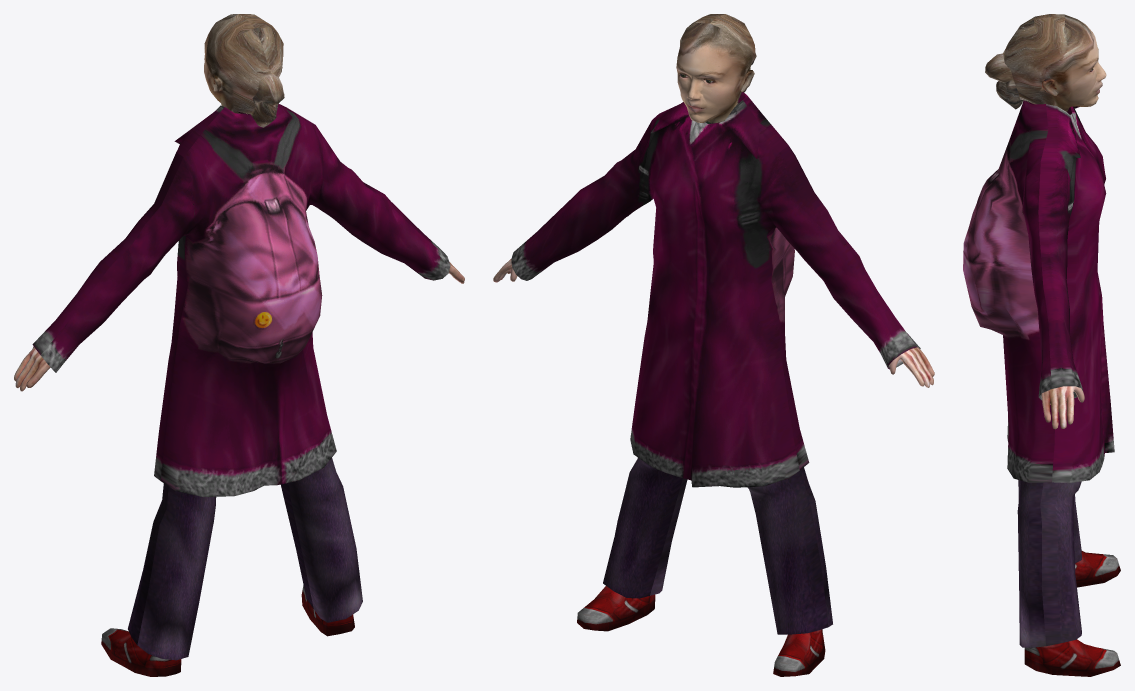
File: civ_female01.glb
3 renders of one model, left to right at view 1: azimuth 30°, elevation 25°; view 2: azimuth 150°, elevation 25°; view 3: azimuth 270°, elevation 25°, orthographic. The views are drawn at different scales.
Parts seen in each view (by area): view 1: cwom0001-t; view 2: cwom0001-t; view 3: cwom0001-t.
Part boxes in pixels (box(x1,y1,x2,y2)): cwom0001-t: box(14, 14, 464, 676); cwom0001-t: box(493, 14, 934, 676); cwom0001-t: box(963, 14, 1120, 676).
Bounding box in the file's own units: 61.94 × 83.92 × 19.74.
1 material, 1 textured.
